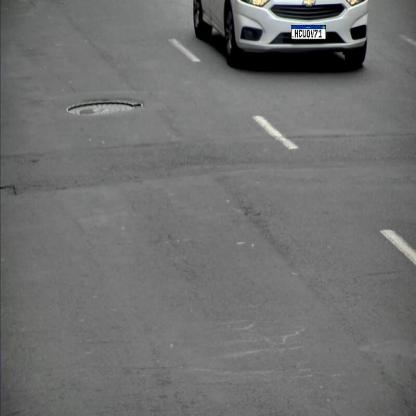PlacaM: (291, 25, 326, 39)
